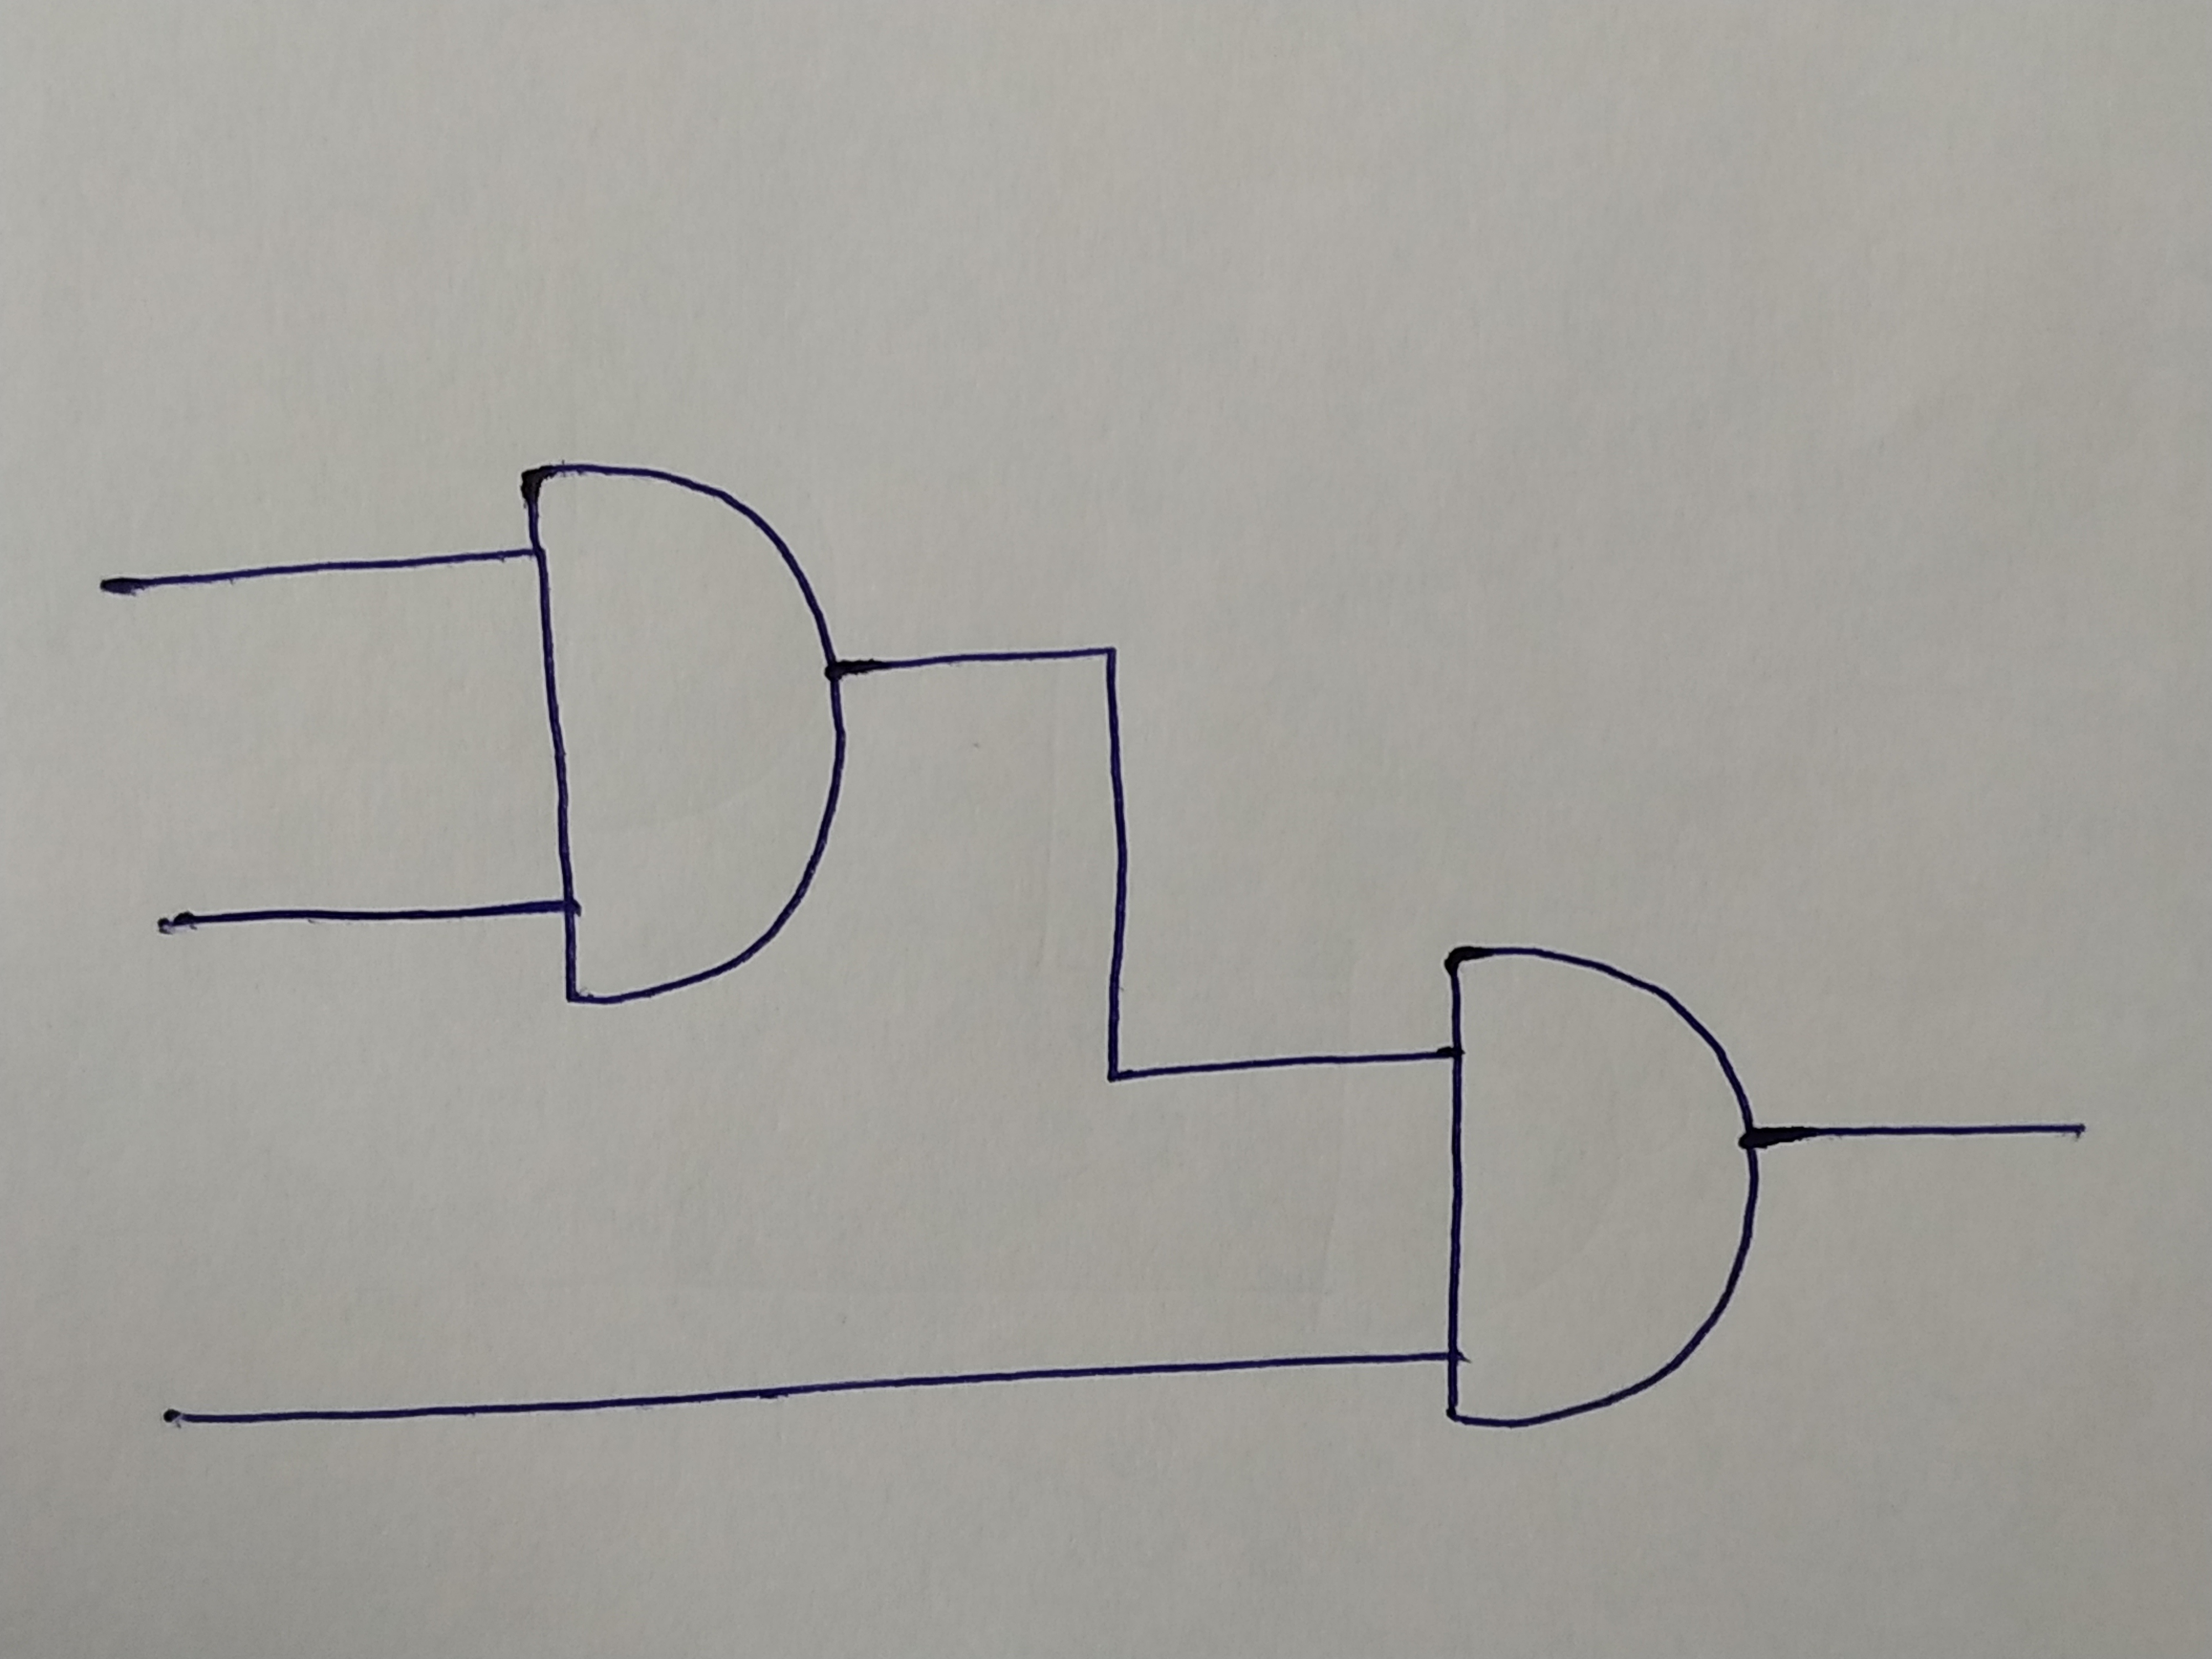and: (524, 465, 841, 1007), (1442, 950, 1757, 1431)
